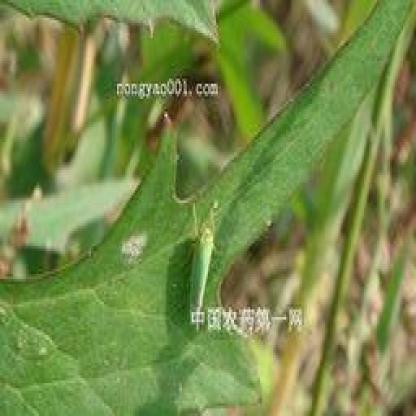Green-Leafhopper: (184, 192, 219, 330)
